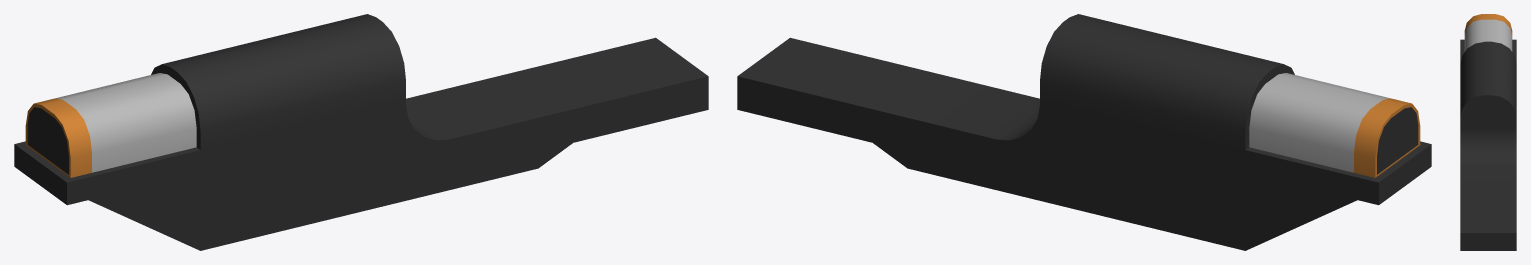
Rendered from Body_Pistol_2.gltf.
The picture shows the model from 3 angles, left to right: view 1: azimuth 30°, elevation 25°; view 2: azimuth 150°, elevation 25°; view 3: azimuth 270°, elevation 25°; orthographic projection. The views are drawn at different scales.
Parts seen in each view (by area): view 1: Body_Pistol_2; view 2: Body_Pistol_2; view 3: Body_Pistol_2.
Boxes of the visible parts, x1,y1,x2,y2 form: Body_Pistol_2: (14, 14, 708, 250); Body_Pistol_2: (737, 14, 1431, 250); Body_Pistol_2: (1460, 14, 1516, 250).
Size of the model in its own units: 0.7904 by 0.1905 by 0.1124.
